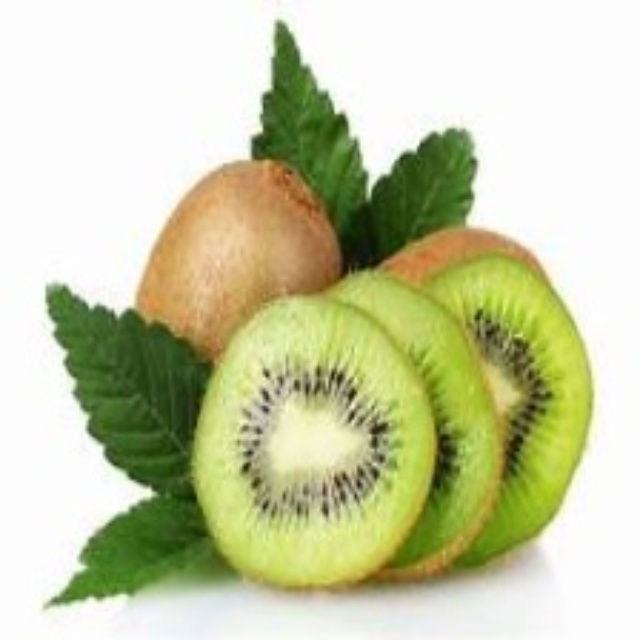kiwi: (206, 279, 588, 586), (144, 157, 340, 360)
